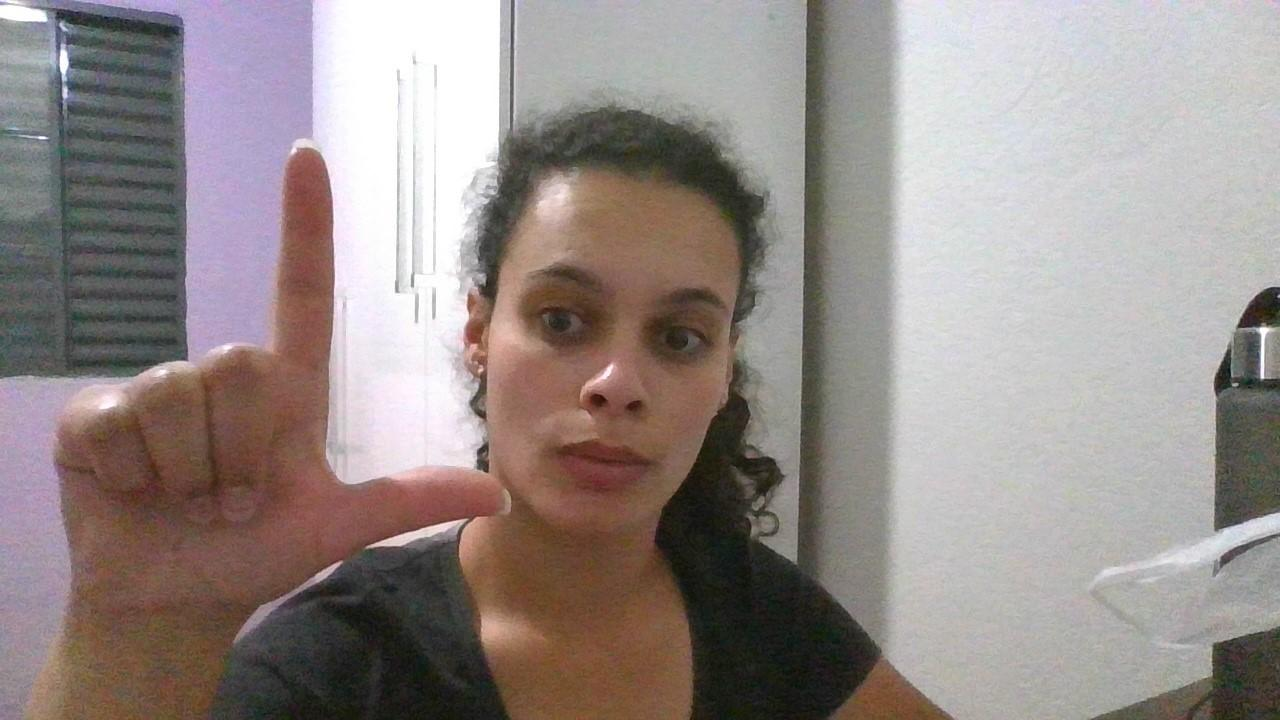L: (44, 136, 522, 606)
